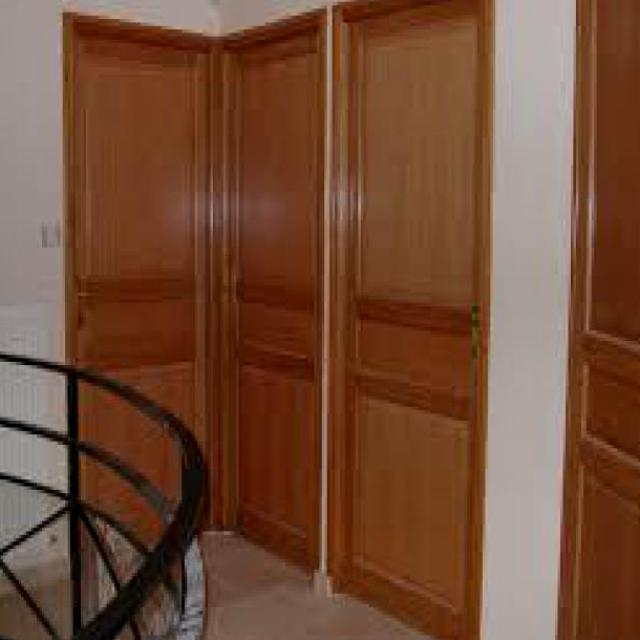door: (336, 2, 492, 640), (214, 14, 328, 576)
